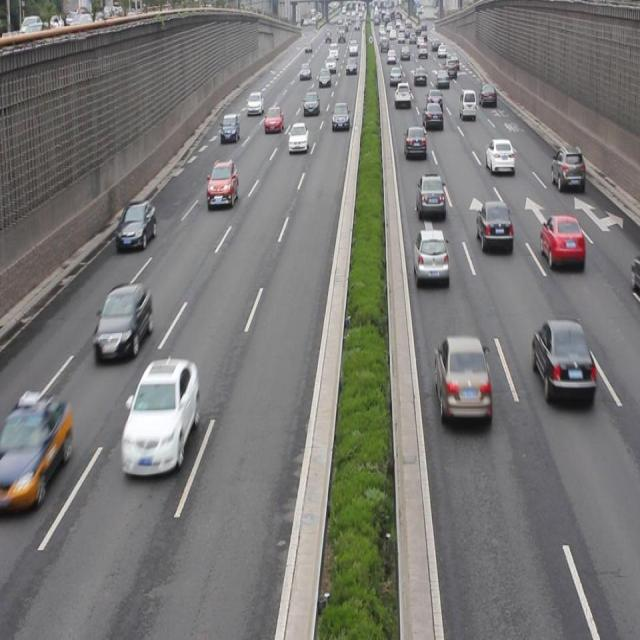car: (120, 358, 198, 478), (1, 391, 70, 513), (530, 318, 594, 406), (92, 281, 152, 365), (434, 333, 490, 423), (538, 214, 584, 270), (116, 199, 156, 250), (413, 228, 448, 284), (476, 200, 512, 254), (550, 144, 584, 194), (206, 158, 239, 208), (415, 172, 444, 220), (484, 138, 514, 176), (403, 125, 427, 161), (287, 121, 308, 154), (220, 110, 239, 144), (422, 100, 442, 132), (331, 100, 350, 132), (264, 104, 283, 135)
